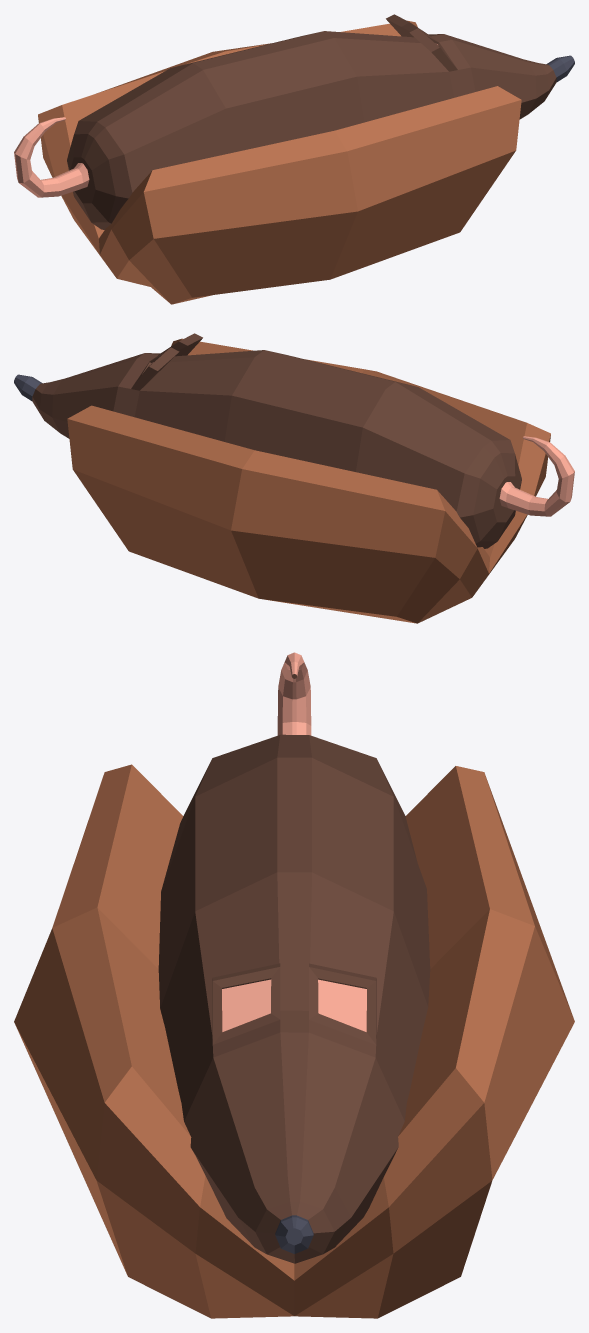
Rendered from VER 2 ratwurst.fbx.
3 views of the same model, one above another, from view 1: azimuth 30°, elevation 25°; view 2: azimuth 150°, elevation 25°; view 3: azimuth 270°, elevation 25° (orthographic). The views are drawn at different scales.
Parts seen in each view (by area): view 1: ratwusrst bun, rat; view 2: ratwusrst bun, rat; view 3: ratwusrst bun, rat.
Part boxes in pixels (x1,y1,x2,y2): ratwusrst bun: [38, 20, 521, 304]; rat: [14, 14, 574, 229]; ratwusrst bun: [67, 338, 550, 623]; rat: [14, 333, 574, 548]; ratwusrst bun: [14, 764, 574, 1318]; rat: [158, 652, 430, 1263].
Size of the model in its own units: 1.26 by 0.6104 by 0.4499.
